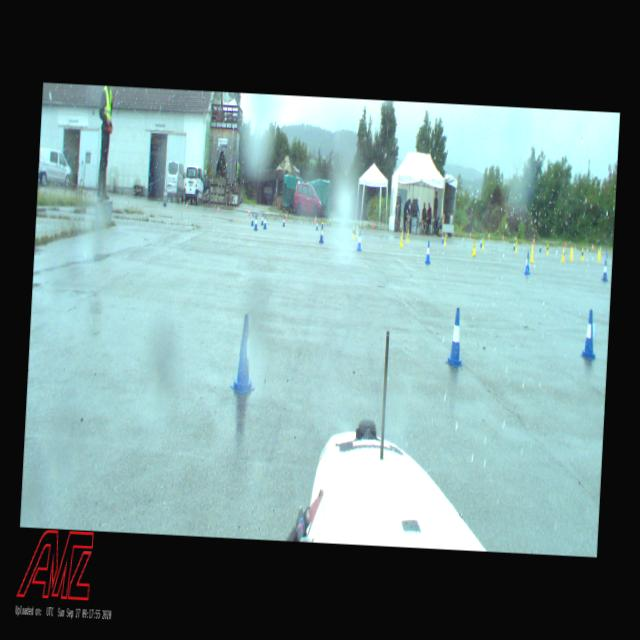blue_cone: (230, 314, 258, 394), (446, 307, 466, 368), (580, 310, 598, 359), (524, 252, 531, 276), (602, 260, 609, 282), (425, 242, 431, 264), (357, 232, 362, 250), (319, 225, 324, 242), (254, 214, 258, 230), (264, 216, 268, 228), (282, 215, 286, 227), (261, 213, 264, 226), (251, 213, 254, 226), (316, 219, 318, 230), (442, 234, 444, 244)
orange_cone: (285, 212, 288, 222), (314, 215, 317, 225), (248, 208, 250, 216), (218, 205, 220, 212)
yellow_cone: (472, 238, 477, 256), (530, 244, 534, 264), (400, 230, 404, 248), (581, 247, 585, 261), (562, 248, 566, 262), (482, 237, 486, 250), (570, 248, 574, 261), (515, 240, 518, 253), (444, 234, 447, 246), (546, 243, 549, 254), (352, 225, 354, 238)
